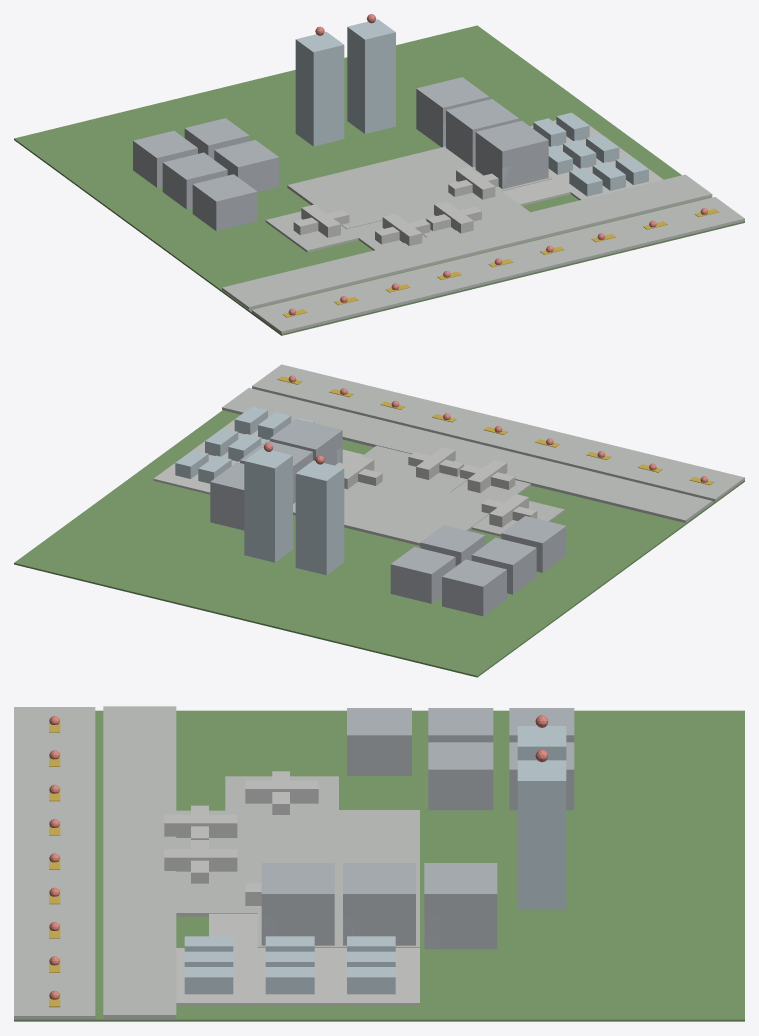
The model's file is stage_23.glb.
3 renders of one model, top to bottom at view 1: azimuth 30°, elevation 25°; view 2: azimuth 150°, elevation 25°; view 3: azimuth 270°, elevation 25°, orthographic. The views are drawn at different scales.
Parts seen in each view (by area): view 1: geometry_0; view 2: geometry_0; view 3: geometry_0.
Part boxes in pixels (bbox=[...]): geometry_0: bbox=[14, 14, 744, 335]; geometry_0: bbox=[14, 364, 744, 677]; geometry_0: bbox=[14, 706, 744, 1021].
Bounding box in the file's own units: 9 × 2.06 × 9.
